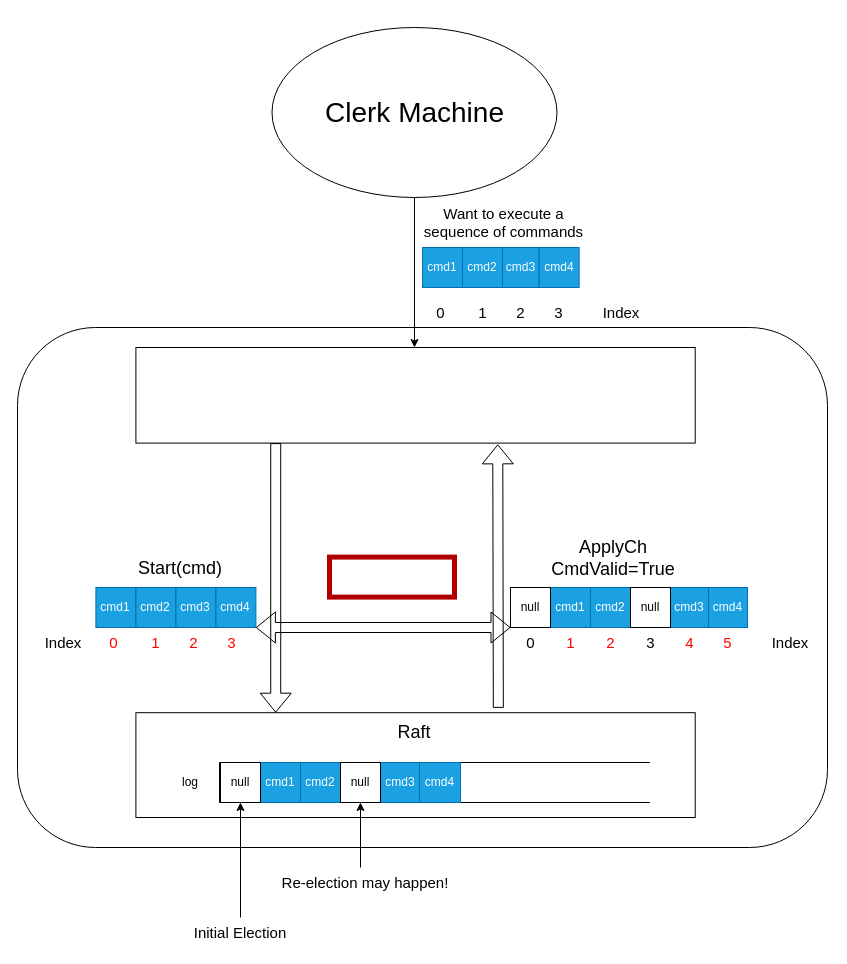
The diagram is 847 pixels wide and 964 high, and some of its shapes have lost their labels. The shapes that lost their labels are listed below. From the top down, each one's centre as x and y in pixels, then its label:
At pixel 415 394: "Service / State Machine".
At pixel 391 576: "Confilict!".
